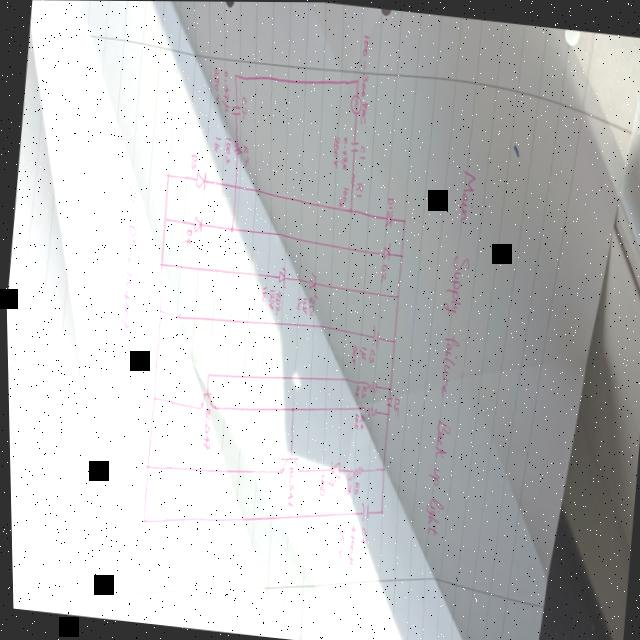capacitor: (369, 321, 381, 347), (357, 499, 368, 521), (347, 137, 359, 154), (230, 101, 242, 116)
crossover: (232, 180, 237, 190)
diode: (325, 458, 340, 486), (306, 270, 320, 297), (193, 168, 207, 192), (192, 212, 203, 233), (276, 264, 286, 287), (381, 239, 391, 261), (383, 206, 393, 227), (384, 394, 391, 407)
junction: (346, 203, 353, 215), (163, 169, 170, 178), (204, 370, 211, 378), (157, 259, 163, 268), (162, 214, 168, 222), (139, 515, 145, 522), (229, 224, 234, 232), (150, 393, 155, 401), (379, 464, 384, 472), (143, 461, 148, 468), (398, 251, 403, 258), (394, 291, 399, 298), (402, 215, 406, 223), (387, 383, 391, 391), (377, 506, 381, 514), (289, 404, 293, 412), (233, 70, 238, 76), (157, 306, 162, 312), (385, 409, 389, 416), (355, 77, 359, 83), (391, 336, 395, 342)
resistor: (231, 131, 244, 154), (360, 403, 377, 417), (364, 377, 377, 392), (348, 167, 357, 187), (350, 462, 361, 477)
source: (348, 92, 362, 114)
text: (415, 165, 483, 535), (113, 183, 143, 329), (353, 31, 376, 124), (209, 64, 223, 105), (199, 406, 212, 450), (342, 520, 355, 563), (220, 68, 232, 111), (284, 464, 296, 506), (338, 132, 350, 170), (221, 134, 233, 164), (330, 133, 340, 167), (337, 183, 349, 207), (334, 525, 343, 557), (272, 287, 282, 314), (239, 93, 249, 118), (240, 142, 250, 167), (348, 342, 357, 366), (316, 471, 325, 495), (182, 227, 193, 245), (266, 285, 274, 309), (343, 470, 351, 494), (356, 142, 367, 159), (306, 293, 314, 316), (379, 260, 387, 283), (391, 392, 399, 415), (212, 134, 222, 152), (354, 179, 364, 196), (357, 524, 365, 545), (259, 282, 267, 302), (356, 343, 366, 359), (300, 294, 308, 313), (351, 410, 359, 428), (189, 151, 197, 169), (367, 346, 375, 362), (386, 194, 394, 208), (357, 413, 364, 428), (351, 478, 358, 493), (352, 381, 359, 396), (295, 295, 301, 309), (359, 383, 365, 397)
transistor: (276, 453, 300, 477), (197, 388, 216, 411)
